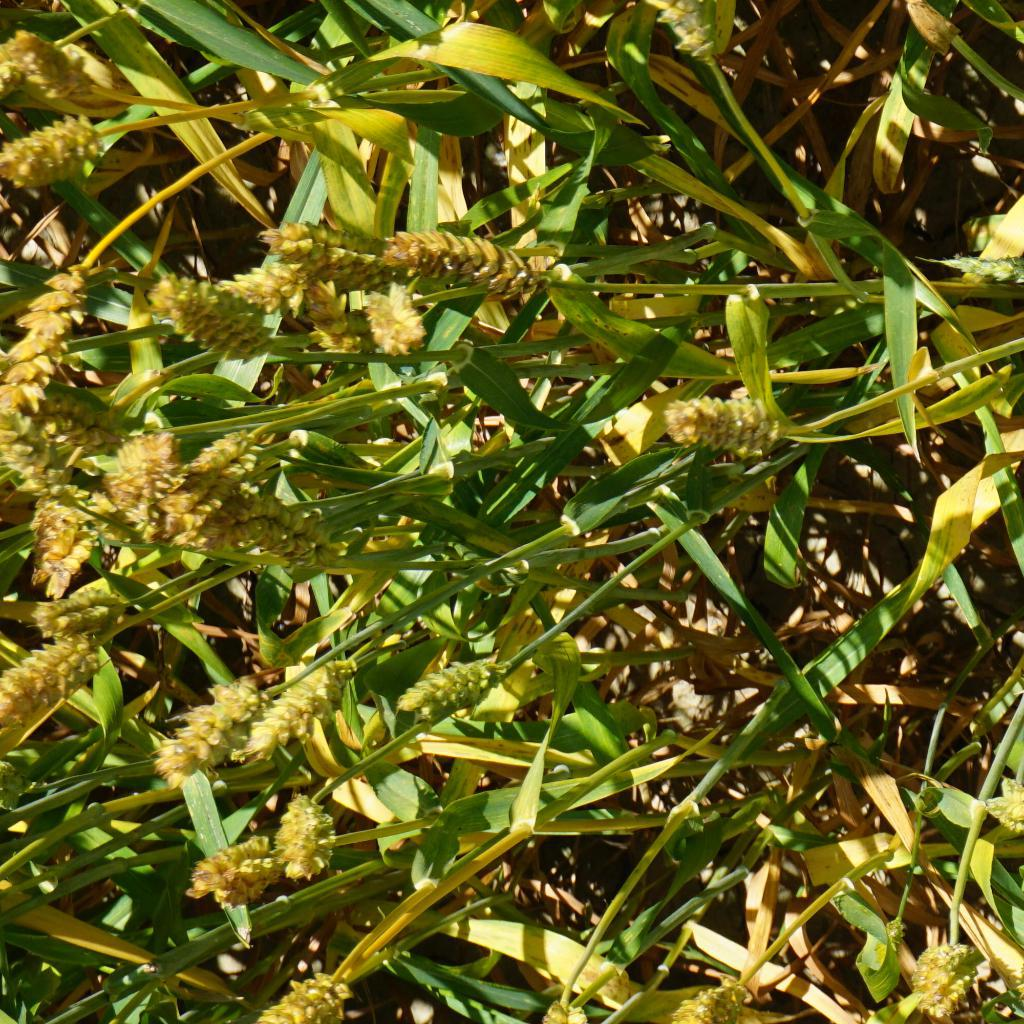0-0: (153, 261, 278, 359), (382, 220, 534, 297), (0, 632, 102, 742), (658, 387, 786, 455), (239, 647, 321, 753), (12, 260, 79, 387), (157, 667, 243, 763), (385, 665, 516, 728), (256, 211, 382, 275), (177, 432, 257, 517), (243, 256, 342, 320), (263, 958, 356, 1024), (0, 130, 116, 182), (25, 503, 96, 585), (268, 796, 341, 873), (632, 0, 725, 60), (358, 277, 433, 351), (19, 32, 92, 99), (39, 382, 116, 442), (0, 404, 58, 483), (199, 832, 267, 897), (115, 425, 170, 504), (915, 932, 975, 1002), (250, 508, 320, 563), (213, 476, 270, 537), (960, 246, 1024, 297), (685, 974, 749, 1024), (987, 768, 1024, 836), (0, 36, 38, 95)
